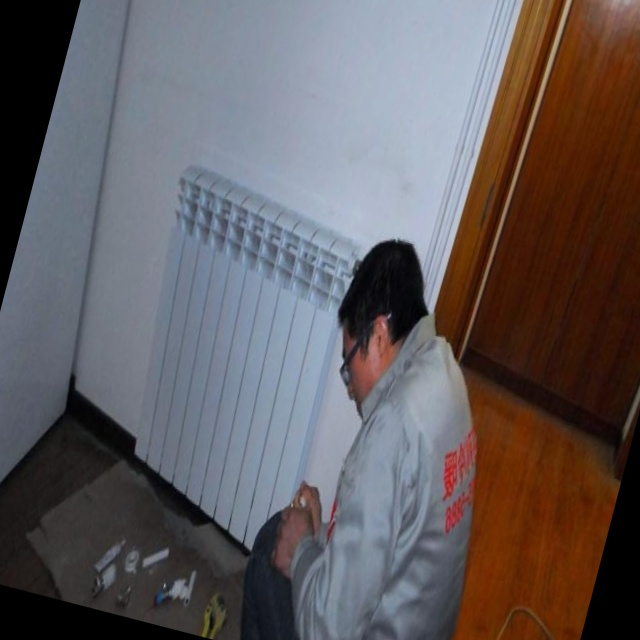Sin_Casco_Mascarrilla: (316, 229, 437, 418)
